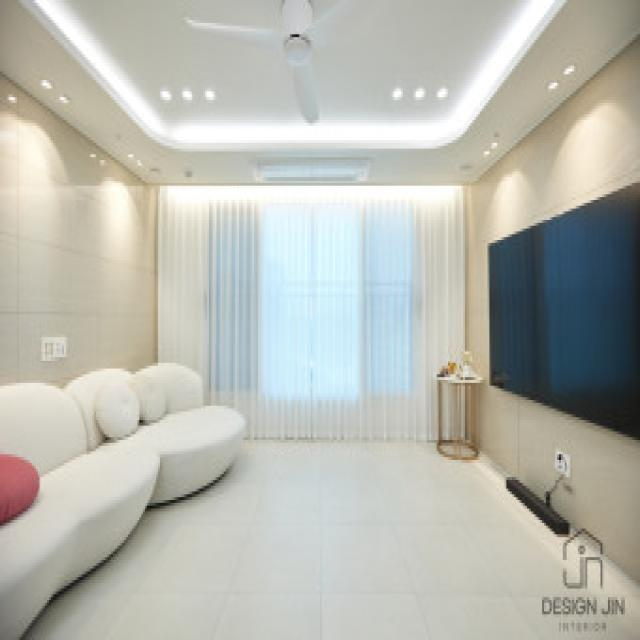Sofa: (11, 362, 246, 627)
tv: (488, 185, 638, 439)
window: (160, 193, 460, 369)
